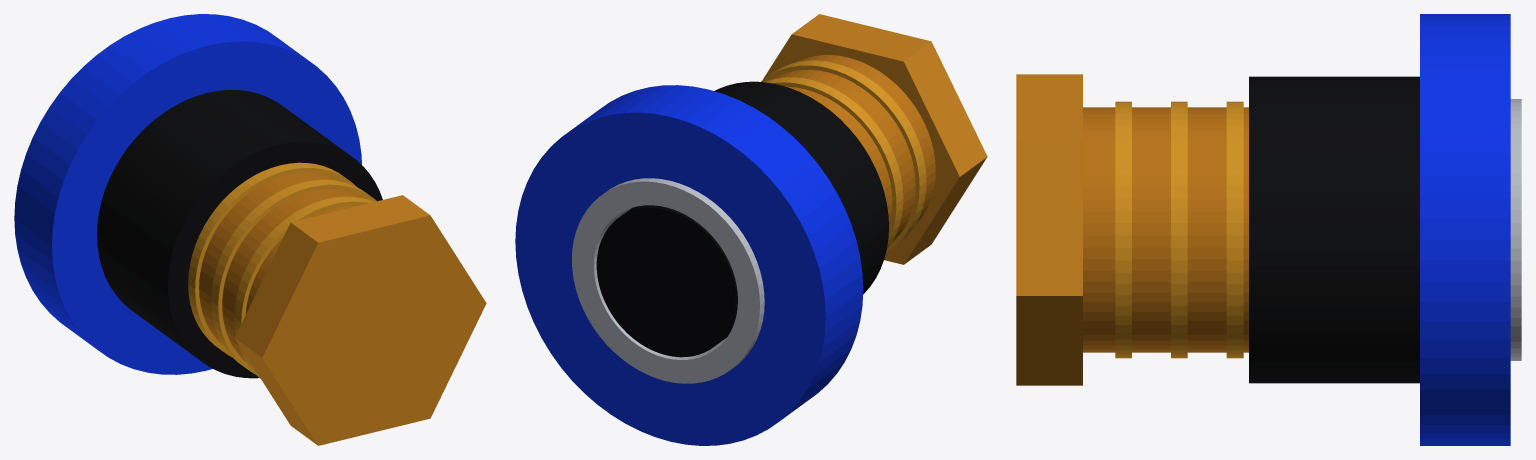
File: JackConnector_Blue.fbx
3 renders of one model, left to right at view 1: azimuth 30°, elevation 25°; view 2: azimuth 150°, elevation 25°; view 3: azimuth 270°, elevation 25°, orthographic. The views are drawn at different scales.
Visible parts, largest first — view 1: ColorCollar, HexNut, RearHousing, BrassBarrel, ThreadRidge1, ThreadRidge2, ThreadRidge3; view 2: ColorCollar, Socket, MetalRim, HexNut, RearHousing, BrassBarrel, ThreadRidge3, ThreadRidge2; view 3: RearHousing, ColorCollar, BrassBarrel, HexNut, ThreadRidge1, ThreadRidge2, ThreadRidge3, MetalRim.
Part boxes in pixels (left/top/right/bottom): ColorCollar: left=14, top=14, right=361, bottom=374; HexNut: left=234, top=195, right=486, bottom=445; RearHousing: left=97, top=90, right=382, bottom=378; BrassBarrel: left=199, top=172, right=365, bottom=361; ThreadRidge1: left=188, top=162, right=357, bottom=357; ThreadRidge2: left=211, top=179, right=376, bottom=373; ThreadRidge3: left=234, top=196, right=374, bottom=378; ColorCollar: left=515, top=85, right=863, bottom=445; Socket: left=596, top=205, right=737, bottom=357; MetalRim: left=571, top=178, right=764, bottom=383; HexNut: left=763, top=14, right=987, bottom=264; RearHousing: left=714, top=81, right=888, bottom=294; BrassBarrel: left=772, top=55, right=935, bottom=242; ThreadRidge3: left=761, top=60, right=926, bottom=252; ThreadRidge2: left=764, top=77, right=903, bottom=248; RearHousing: left=1249, top=76, right=1419, bottom=383; ColorCollar: left=1420, top=14, right=1510, bottom=445; BrassBarrel: left=1083, top=107, right=1248, bottom=352; HexNut: left=1016, top=74, right=1082, bottom=385; ThreadRidge1: left=1226, top=101, right=1243, bottom=358; ThreadRidge2: left=1171, top=101, right=1187, bottom=358; ThreadRidge3: left=1115, top=101, right=1131, bottom=358; MetalRim: left=1510, top=99, right=1521, bottom=360.
Size of the model in its own units: 0.031 by 0.031 by 0.0363.
